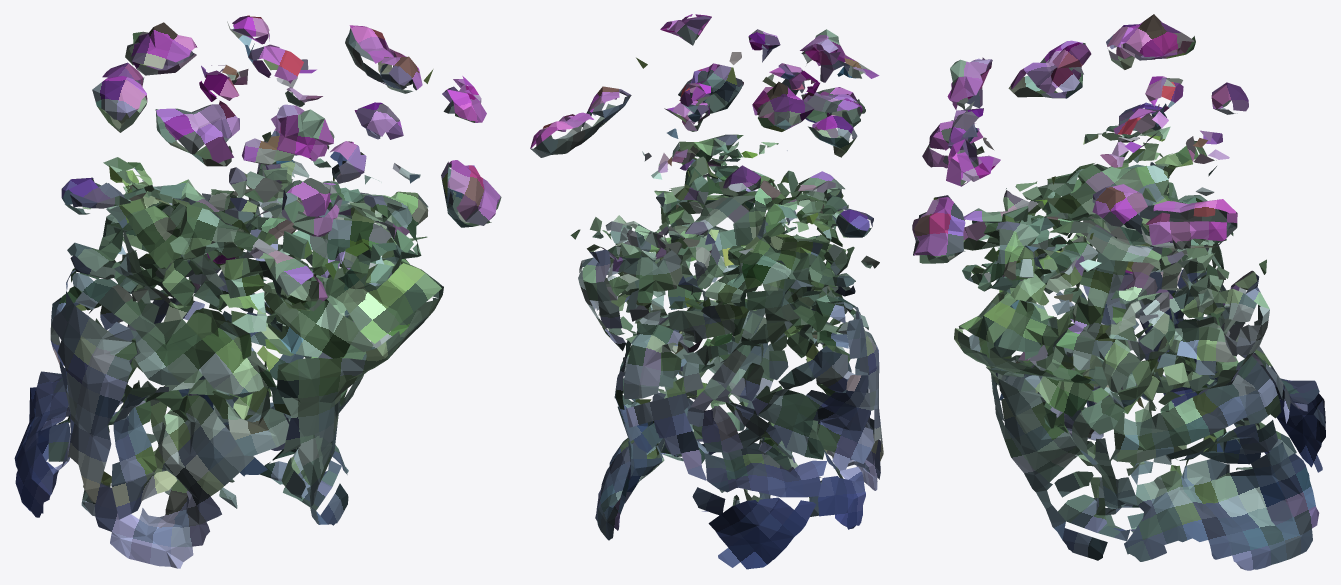
Rendered from echinacea_text_fbx.fbx.
The picture shows the model from 3 angles, left to right: view 1: azimuth 30°, elevation 25°; view 2: azimuth 150°, elevation 25°; view 3: azimuth 270°, elevation 25°; orthographic projection. The views are drawn at different scales.
Parts seen in each view (by area): view 1: Model; view 2: Model; view 3: Model.
Boxes of the visible parts, x1,y1,x2,y2 form: Model: [14, 15, 501, 568]; Model: [530, 14, 883, 569]; Model: [912, 14, 1325, 570].
Size of the model in its own units: 1.92 by 2.49 by 1.92.
